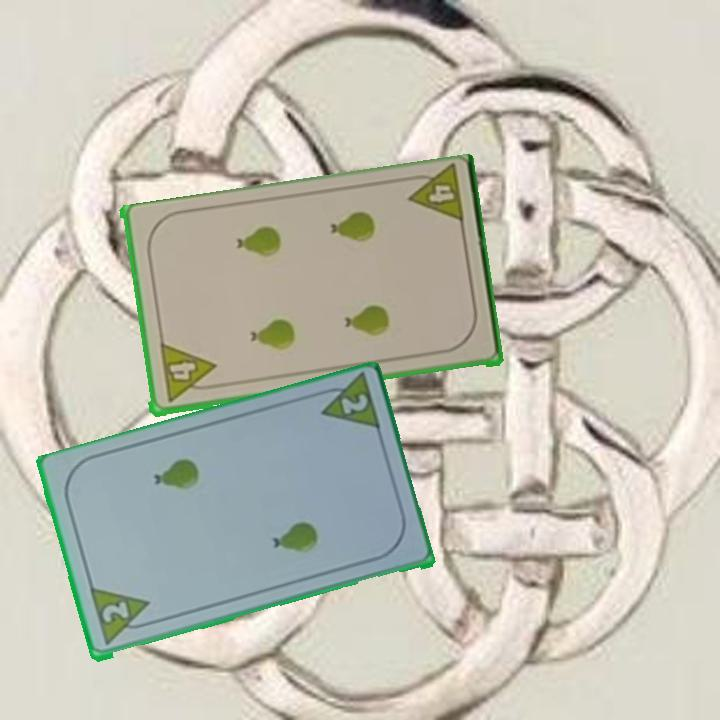2p: (86, 585, 157, 649), (337, 391, 371, 418)
4p: (401, 164, 467, 229), (156, 341, 220, 406)
